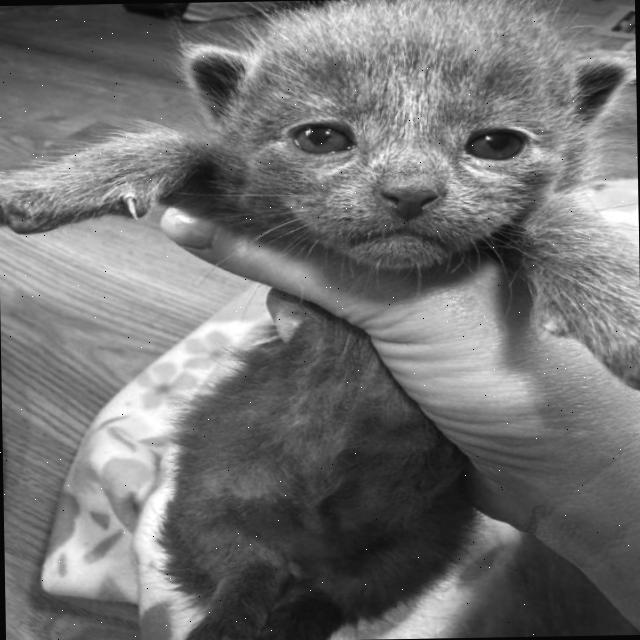russian_blue_cat: (138, 0, 638, 284)
